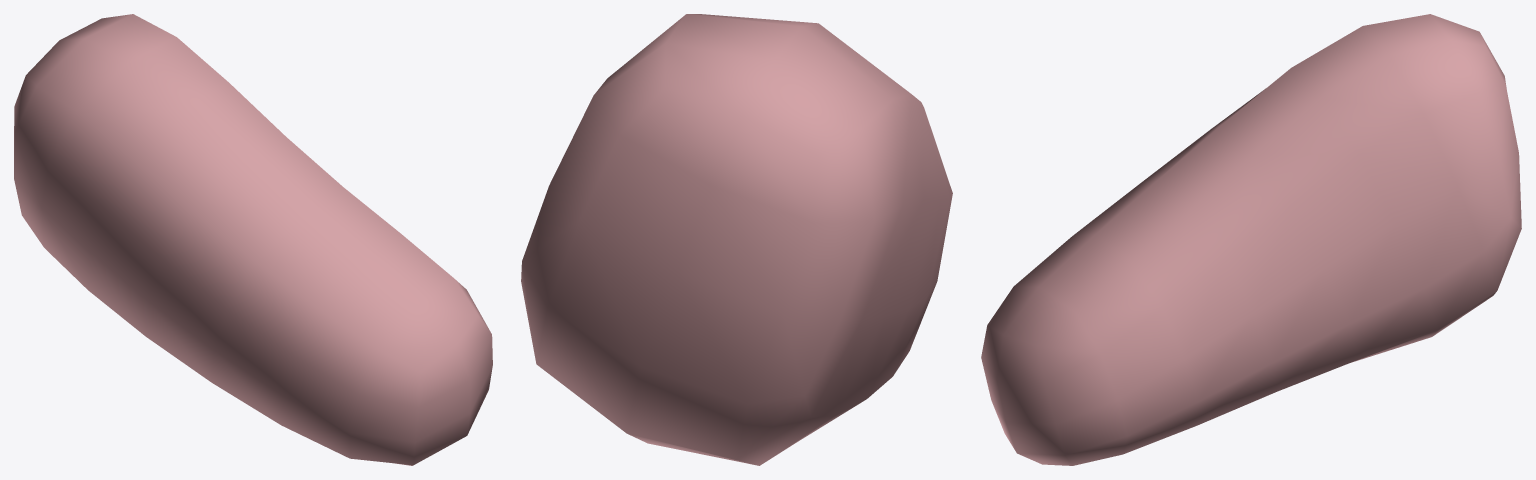
3 renders of one model, left to right at view 1: azimuth 30°, elevation 25°; view 2: azimuth 150°, elevation 25°; view 3: azimuth 270°, elevation 25°, orthographic. The views are drawn at different scales.
Visible parts, largest first — view 1: ZA_841b4fced3cecb54; view 2: ZA_841b4fced3cecb54; view 3: ZA_841b4fced3cecb54.
Part boxes in pixels (x1,y1,x2,y2): ZA_841b4fced3cecb54: (14, 14, 492, 465); ZA_841b4fced3cecb54: (521, 14, 952, 465); ZA_841b4fced3cecb54: (981, 14, 1521, 465).
Bounding box in the file's own units: 0.00832 × 0.00864 × 0.0117.
